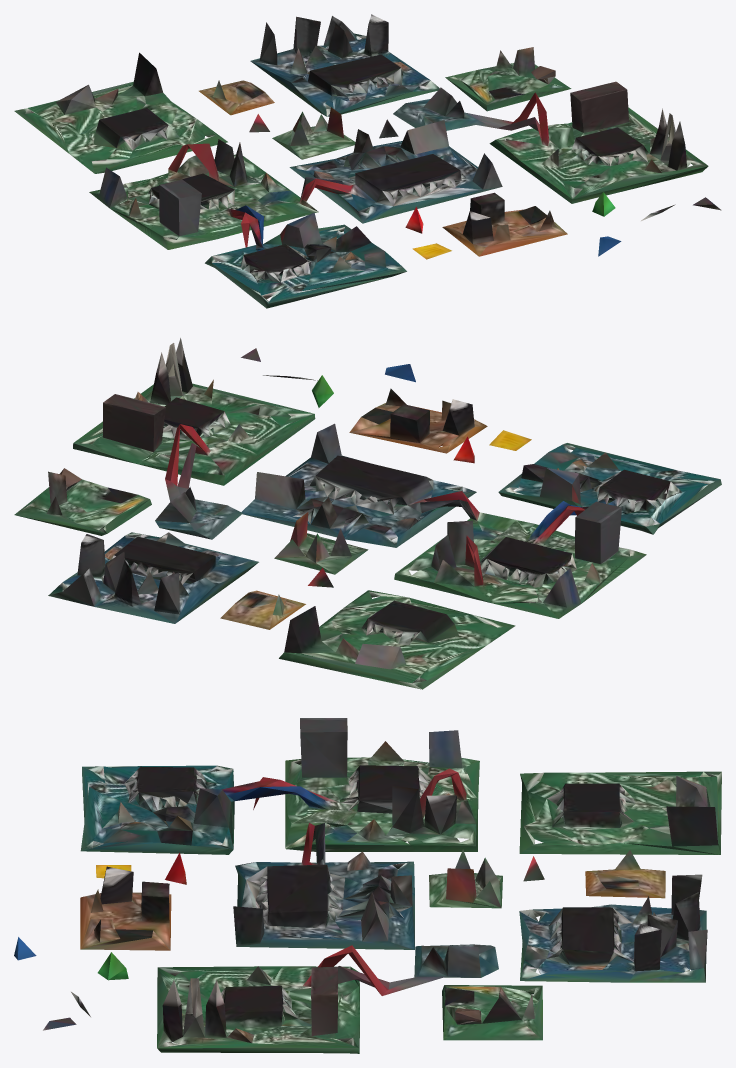
The model's file is part_electronic_platy_idle.glb.
3 renders of one model, top to bottom at view 1: azimuth 30°, elevation 25°; view 2: azimuth 150°, elevation 25°; view 3: azimuth 270°, elevation 25°, orthographic. The views are drawn at different scales.
Visible parts, largest first — view 1: tripo_node_7c6c09df-353c-4c50-9205-0d297c12bf23; view 2: tripo_node_7c6c09df-353c-4c50-9205-0d297c12bf23; view 3: tripo_node_7c6c09df-353c-4c50-9205-0d297c12bf23.
Part boxes in pixels (left/top/right/bottom): tripo_node_7c6c09df-353c-4c50-9205-0d297c12bf23: left=14, top=14, right=721, bottom=308; tripo_node_7c6c09df-353c-4c50-9205-0d297c12bf23: left=14, top=338, right=721, bottom=689; tripo_node_7c6c09df-353c-4c50-9205-0d297c12bf23: left=14, top=718, right=721, bottom=1053.
Bounding box in the file's own units: 0.7901 × 0.0904 × 0.8105.
Materials: 1 (1 with a texture image).
